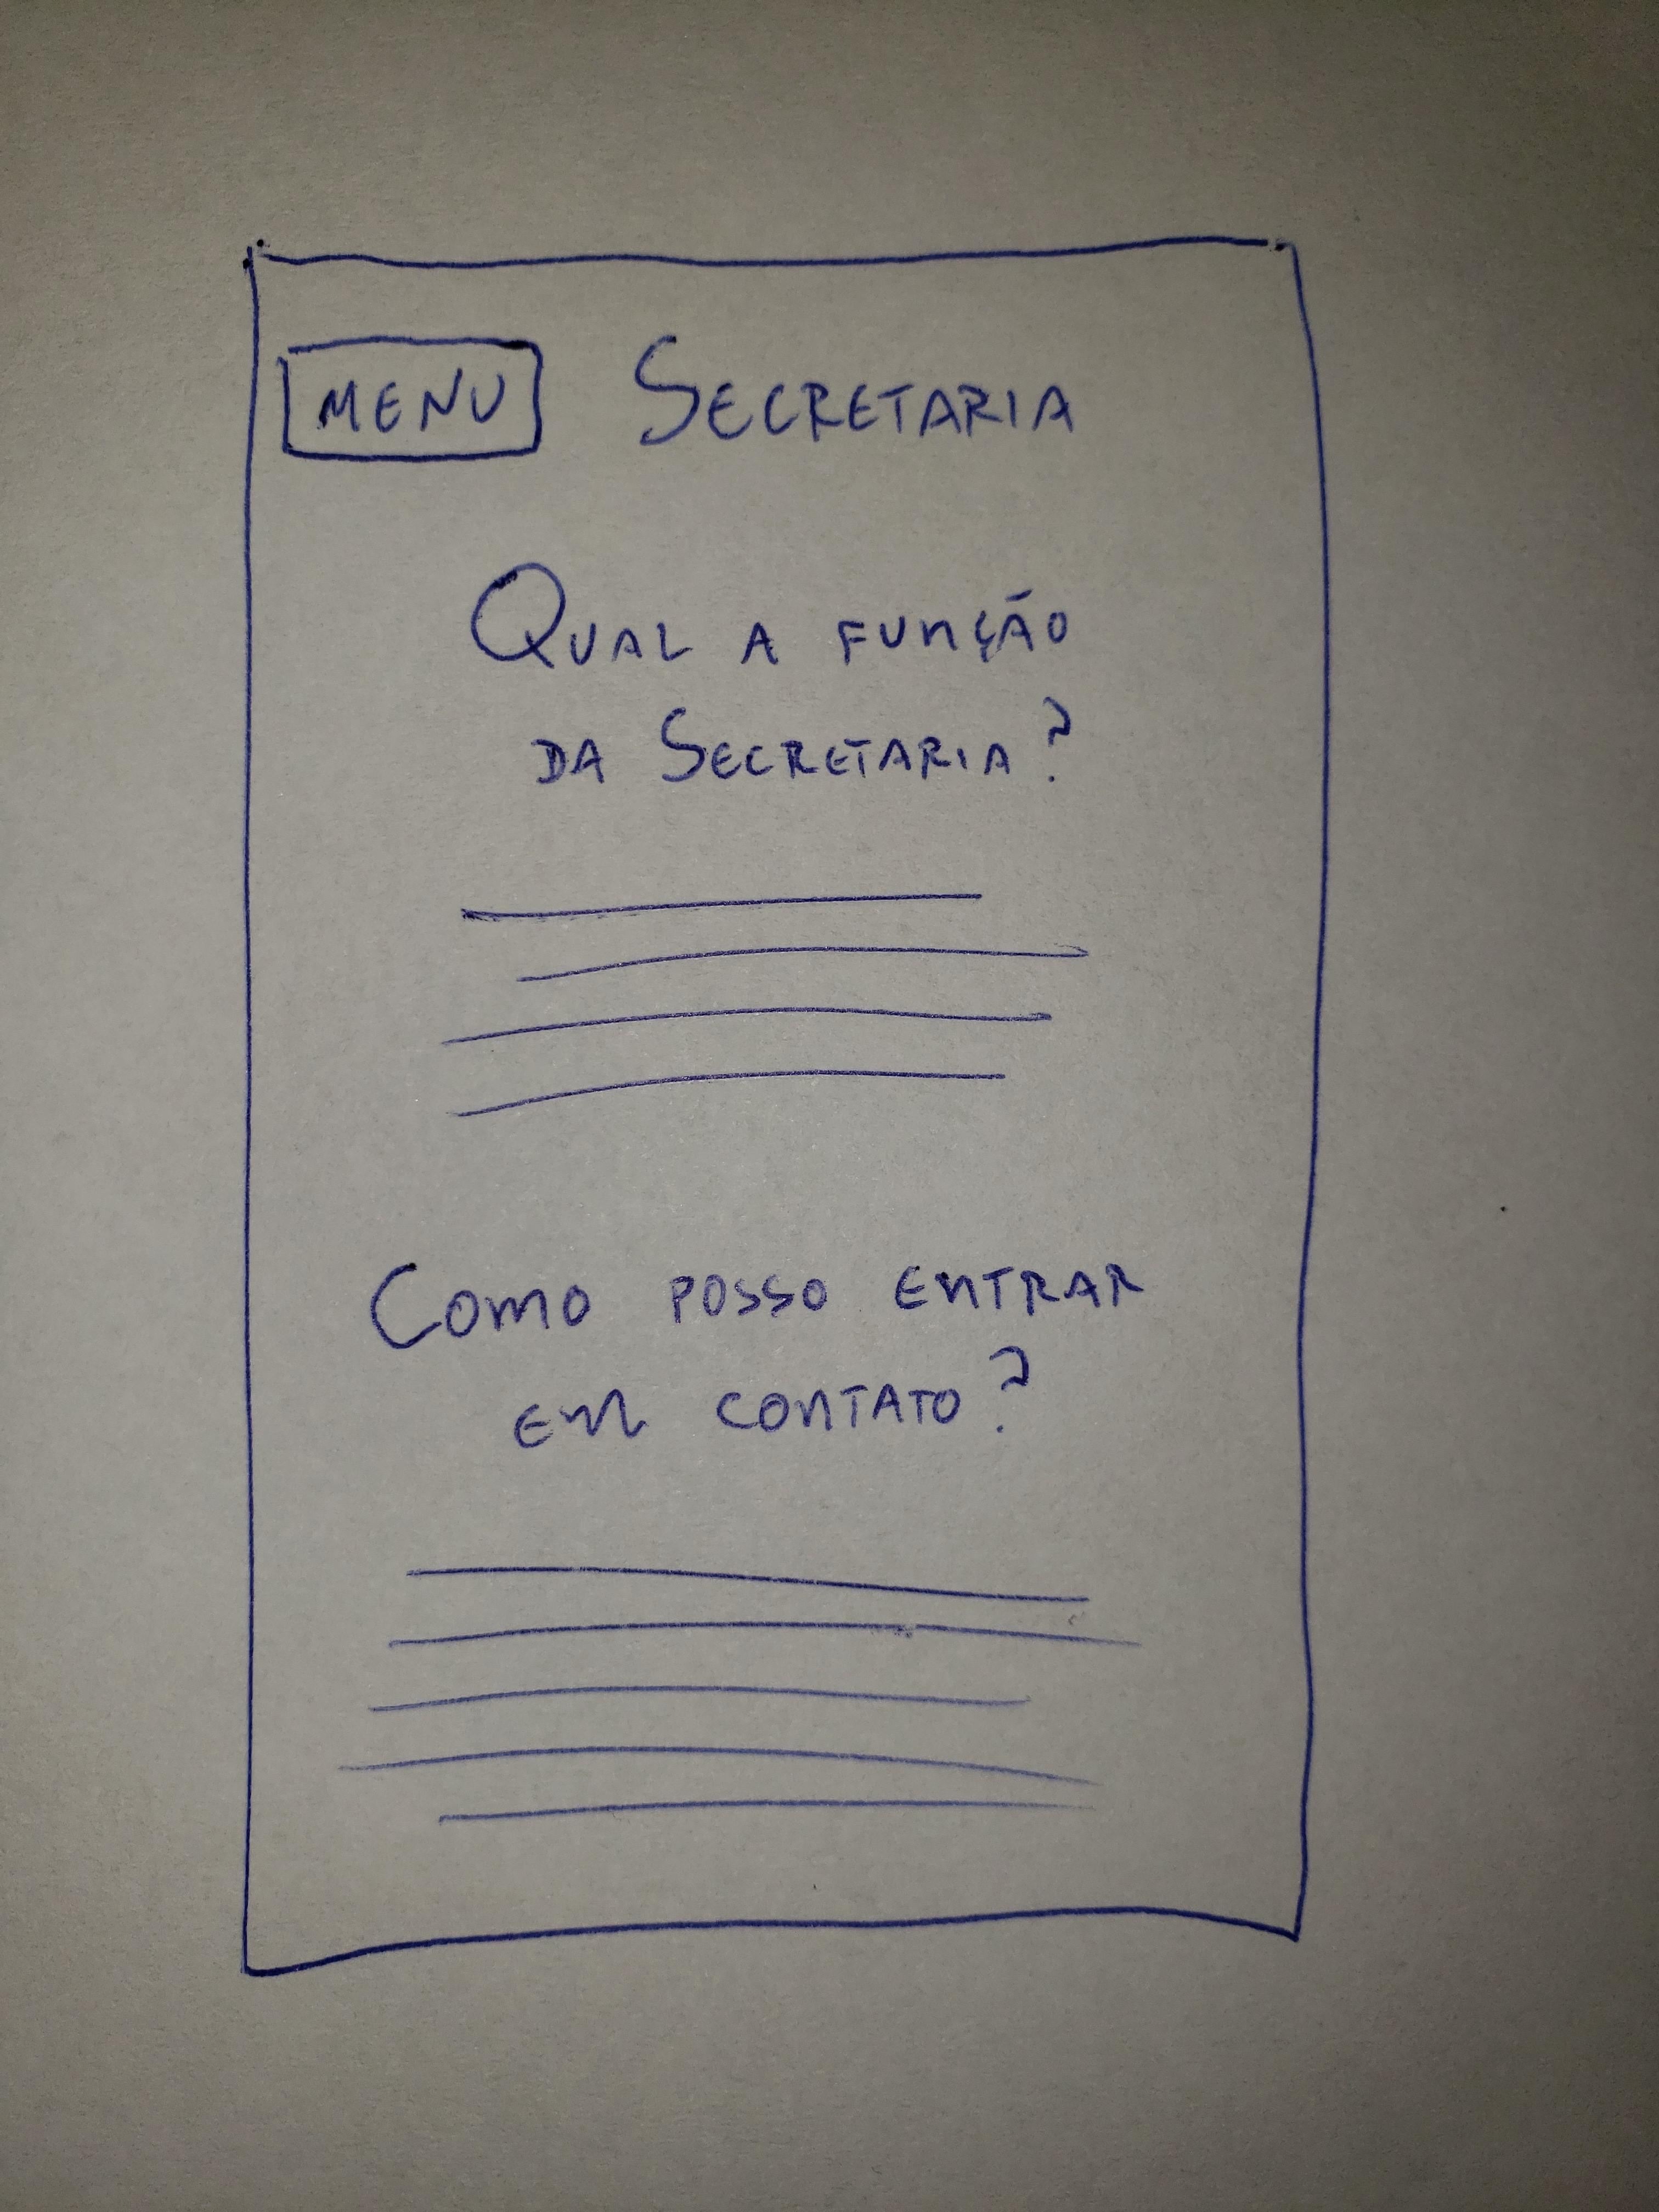Button: (281, 329, 544, 463)
Label: (335, 1562, 1145, 1827), (364, 1245, 1148, 1453), (444, 894, 1089, 1120), (469, 557, 1079, 787), (633, 331, 1075, 448)
Screen: (235, 240, 1333, 1975)
